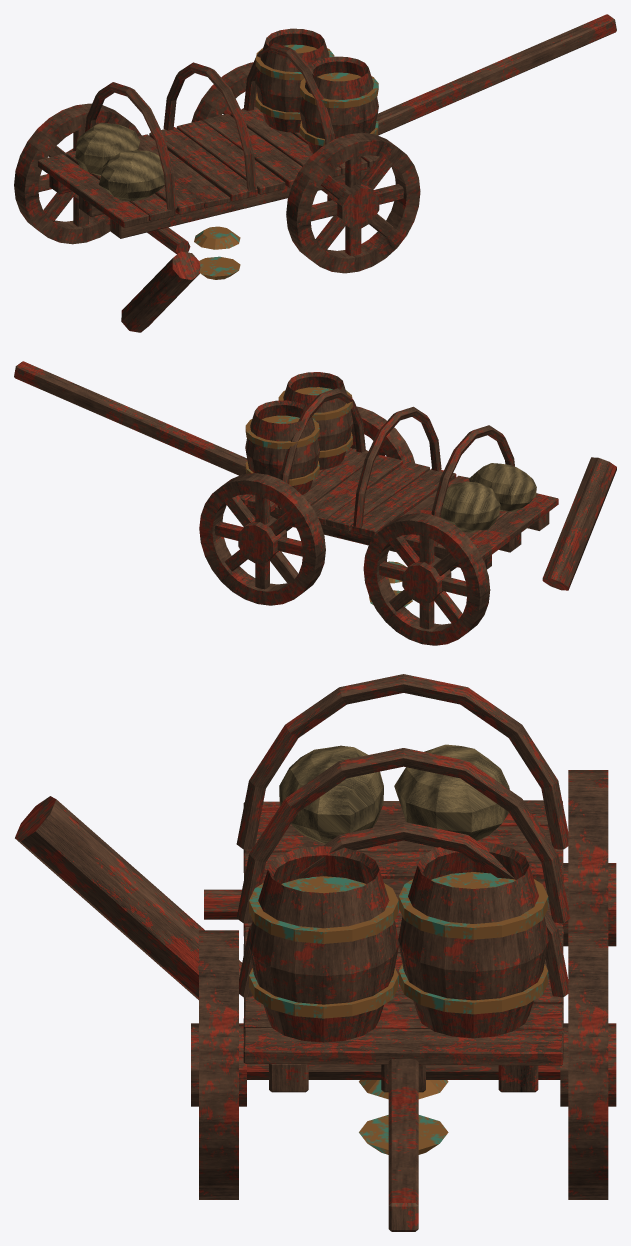
The model's file is Cart_B.glb.
3 views of the same model, one above another, from view 1: azimuth 30°, elevation 25°; view 2: azimuth 150°, elevation 25°; view 3: azimuth 270°, elevation 25° (orthographic). The views are drawn at different scales.
Parts seen in each view (by area): view 1: Cart_B__Timber, Cart_B__Cloth, Cart_B__Bronze; view 2: Cart_B__Timber, Cart_B__Cloth, Cart_B__Bronze; view 3: Cart_B__Timber, Cart_B__Bronze, Cart_B__Cloth.
Part boxes in pixels (x1=…): Cart_B__Timber: x1=14, y1=14, x2=616, y2=332; Cart_B__Cloth: x1=75, y1=122, x2=164, y2=201; Cart_B__Bronze: x1=194, y1=44, x2=378, y2=279; Cart_B__Timber: x1=14, y1=361, x2=616, y2=645; Cart_B__Cloth: x1=440, y1=463, x2=536, y2=532; Cart_B__Bronze: x1=245, y1=387, x2=412, y2=606; Cart_B__Timber: x1=15, y1=674, x2=616, y2=1231; Cart_B__Bronze: x1=249, y1=872, x2=548, y2=1154; Cart_B__Cloth: x1=279, y1=744, x2=509, y2=843.
Size of the model in its own units: 23.8 by 8.66 by 12.05.
3 materials, 3 textured.
